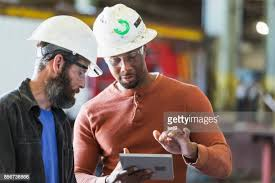casque: (13, 3, 164, 146)
